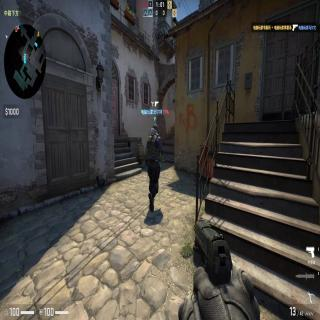CT-Body: (146, 124, 162, 213)
CT-Head: (152, 124, 158, 134)
